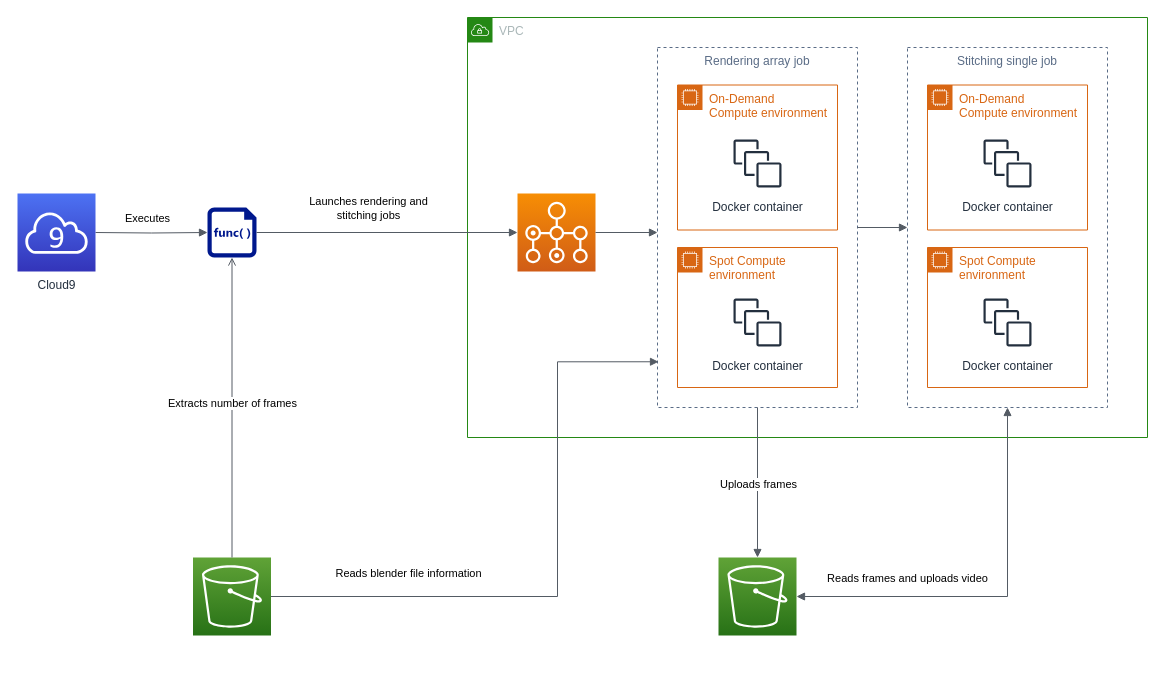
The diagram is 1165 pixels wide and 674 high, and some of its shapes have lost their labels. Each missing label, with the centre of its shape:
"AWS Batch" goes at pixel 556 232.
"Input location" goes at pixel 231 596.
"Output location" goes at pixel 757 596.
"Python script" goes at pixel 231 232.
